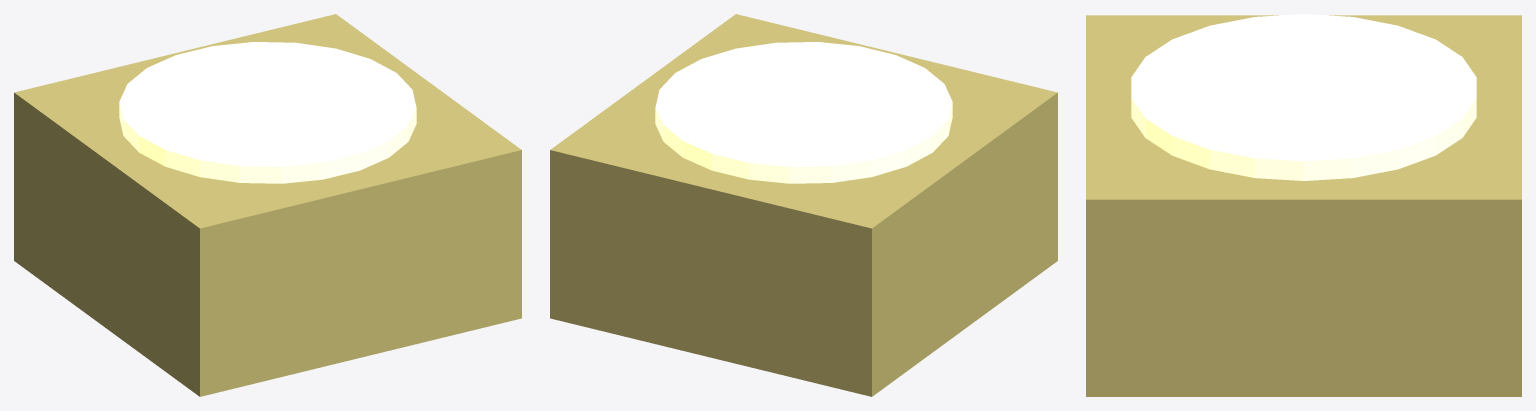
Rendered from Goal_TopHalf.glb.
3 renders of one model, left to right at view 1: azimuth 30°, elevation 25°; view 2: azimuth 150°, elevation 25°; view 3: azimuth 270°, elevation 25°, orthographic. The views are drawn at different scales.
Parts seen in each view (by area): view 1: Goal_TopHalf_body, glow_disc.002; view 2: Goal_TopHalf_body, glow_disc.002; view 3: Goal_TopHalf_body, glow_disc.002.
Part boxes in pixels (box(x1,y1,x2,y2)): Goal_TopHalf_body: box(14, 14, 521, 396); glow_disc.002: box(119, 42, 416, 183); Goal_TopHalf_body: box(550, 14, 1057, 396); glow_disc.002: box(655, 42, 952, 183); Goal_TopHalf_body: box(1086, 15, 1521, 396); glow_disc.002: box(1131, 14, 1476, 180).
Size of the model in its own units: 1 by 0.55 by 1.
